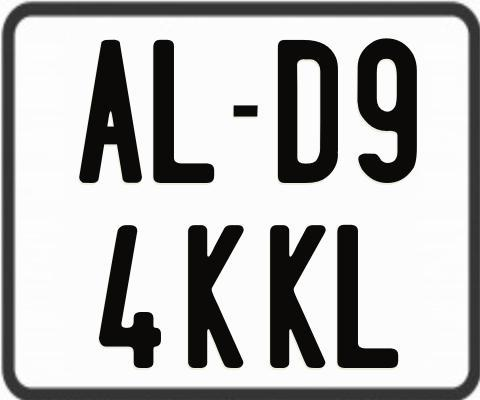4: (96, 224, 159, 373)
9: (354, 35, 415, 184)
A: (79, 40, 144, 185)
D: (277, 39, 337, 188)
K: (188, 225, 247, 373), (270, 223, 328, 366)
L: (335, 225, 402, 373), (152, 40, 217, 183)
